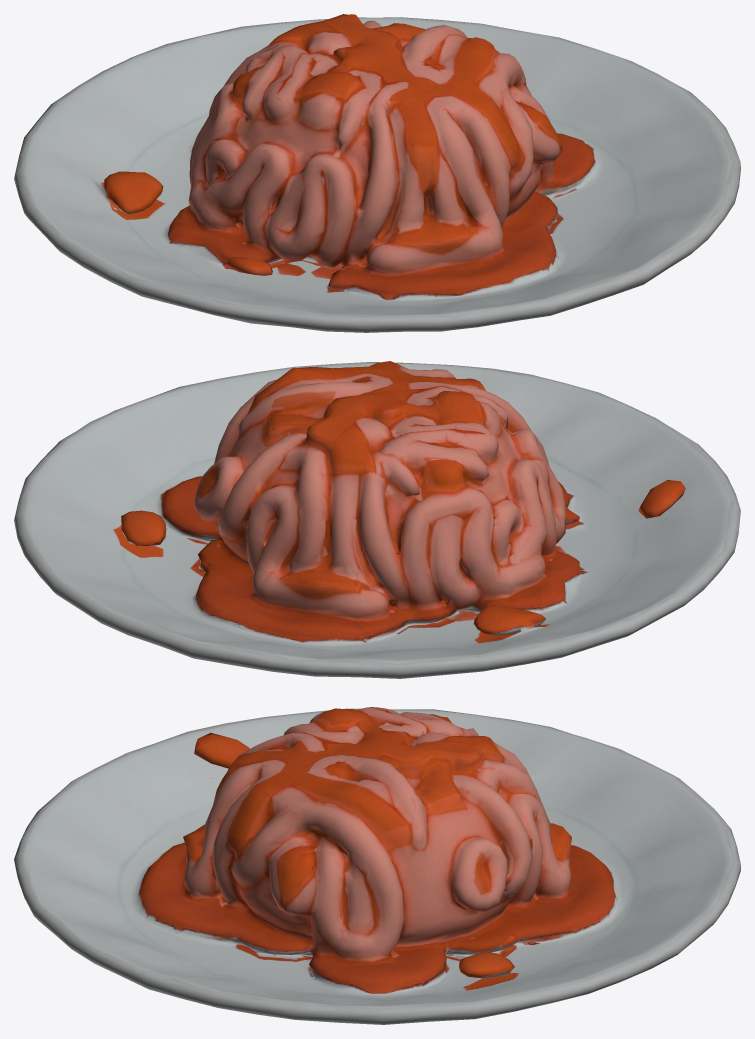
File: mochi.glb
The picture shows the model from 3 angles, top to bottom: view 1: azimuth 30°, elevation 25°; view 2: azimuth 150°, elevation 25°; view 3: azimuth 270°, elevation 25°; orthographic projection.
Parts seen in each view (by area): view 1: tripo_node_ad03c131-4833-4ca8-a025-994eb2cd9745; view 2: tripo_node_ad03c131-4833-4ca8-a025-994eb2cd9745; view 3: tripo_node_ad03c131-4833-4ca8-a025-994eb2cd9745.
Part boxes in pixels (left/top/right/bottom): tripo_node_ad03c131-4833-4ca8-a025-994eb2cd9745: left=14, top=14, right=740, bottom=332; tripo_node_ad03c131-4833-4ca8-a025-994eb2cd9745: left=14, top=361, right=740, bottom=678; tripo_node_ad03c131-4833-4ca8-a025-994eb2cd9745: left=14, top=707, right=740, bottom=1024.
Size of the model in its own units: 0.9895 by 0.264 by 0.9925.
Materials: 1 (1 with a texture image).
